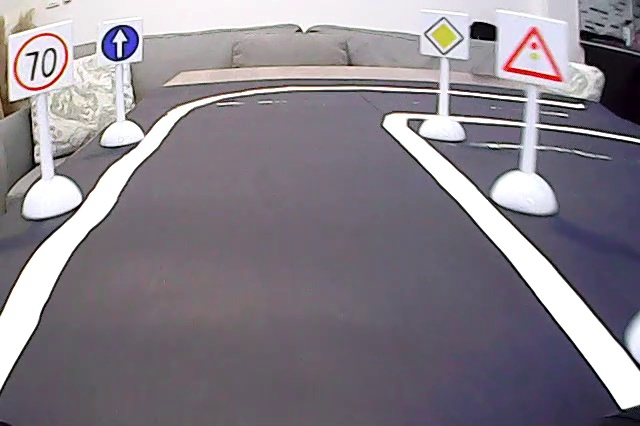red light: (496, 15, 569, 86)
speed limit 70: (10, 33, 70, 91)
